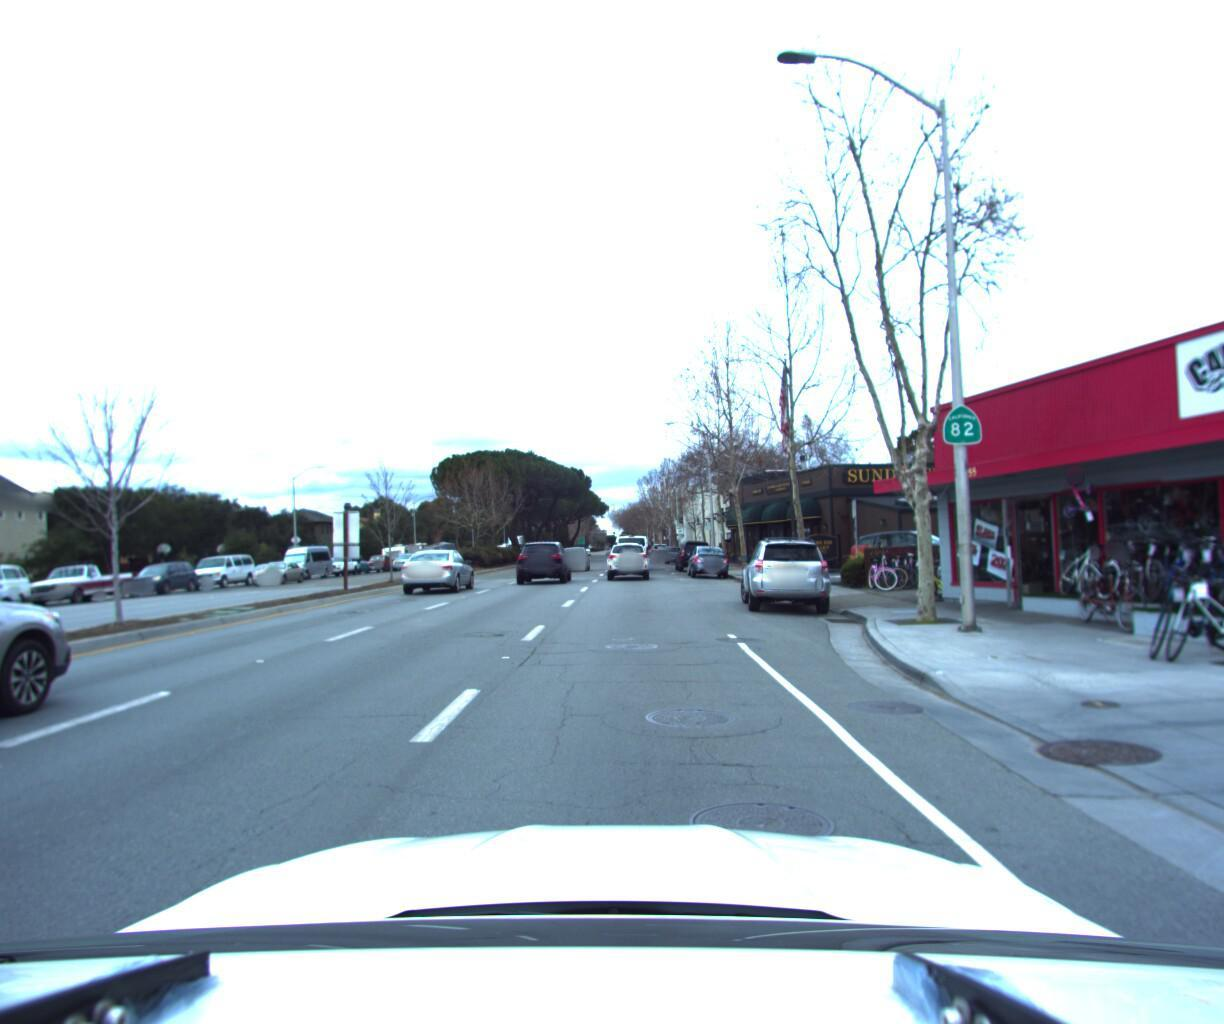bicycle: (1129, 561, 1224, 661), (1064, 556, 1160, 634), (1153, 562, 1224, 666), (1139, 530, 1224, 615), (1140, 528, 1224, 608), (1111, 529, 1190, 605), (1160, 526, 1224, 614), (1090, 530, 1162, 603), (1066, 531, 1133, 601), (1048, 533, 1111, 600), (1179, 527, 1224, 617), (1204, 516, 1224, 609), (883, 542, 922, 587), (872, 542, 910, 588), (910, 561, 955, 599), (857, 543, 894, 589)
car: (0, 523, 107, 867), (737, 531, 836, 617), (839, 523, 977, 579), (19, 559, 144, 609), (396, 550, 480, 601), (124, 562, 210, 603), (186, 554, 265, 593), (513, 539, 573, 588), (276, 544, 341, 585), (0, 564, 44, 623), (0, 576, 37, 630), (603, 540, 650, 583), (250, 562, 312, 592), (685, 543, 731, 579), (615, 533, 652, 573), (673, 538, 714, 573), (322, 556, 363, 580), (561, 546, 594, 573), (367, 554, 402, 575), (393, 553, 425, 571), (664, 545, 690, 565)
